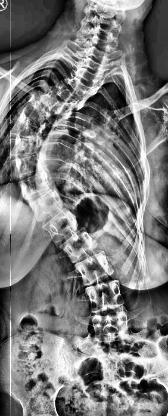Vertebrae: (82, 279, 126, 315), (42, 211, 86, 247), (76, 250, 114, 288), (87, 311, 135, 341), (60, 228, 100, 264), (16, 170, 58, 200), (25, 189, 64, 221), (13, 117, 51, 145), (10, 136, 52, 160), (8, 156, 50, 178), (42, 92, 72, 116), (24, 104, 56, 126), (74, 67, 108, 87), (70, 77, 97, 101), (58, 87, 84, 111), (78, 56, 110, 74)
